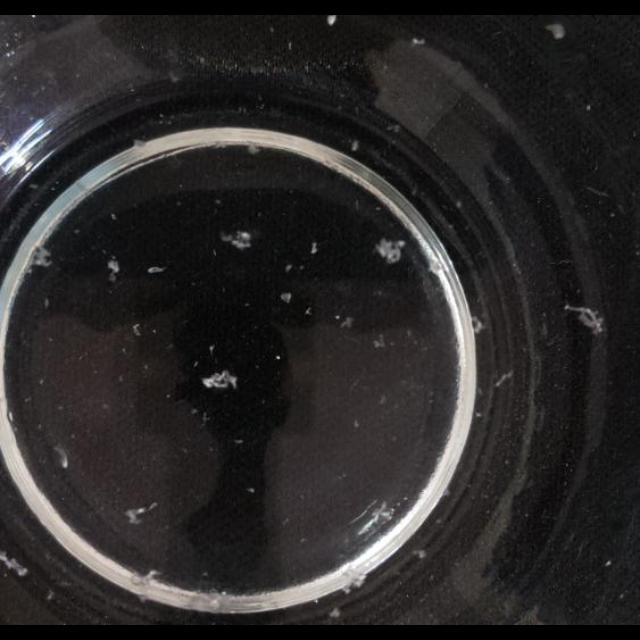Fibre: (357, 499, 398, 536), (564, 304, 604, 332), (376, 236, 406, 264), (125, 501, 159, 524), (220, 228, 253, 250), (337, 570, 367, 594), (134, 570, 164, 592), (32, 247, 54, 270), (107, 257, 121, 279), (494, 371, 511, 387), (247, 144, 263, 156), (350, 138, 360, 152), (310, 242, 320, 254), (412, 36, 424, 46)
microbeads: (0, 549, 28, 577), (546, 23, 566, 39), (471, 316, 485, 334), (373, 334, 387, 350), (340, 316, 354, 329), (280, 292, 292, 304), (414, 548, 426, 560), (329, 607, 341, 619), (132, 324, 142, 336), (378, 394, 388, 406), (304, 306, 312, 316), (284, 264, 292, 274), (110, 212, 118, 222), (247, 486, 256, 494), (208, 343, 216, 352), (352, 419, 360, 428), (604, 560, 612, 568), (275, 355, 281, 361), (586, 104, 592, 110)
